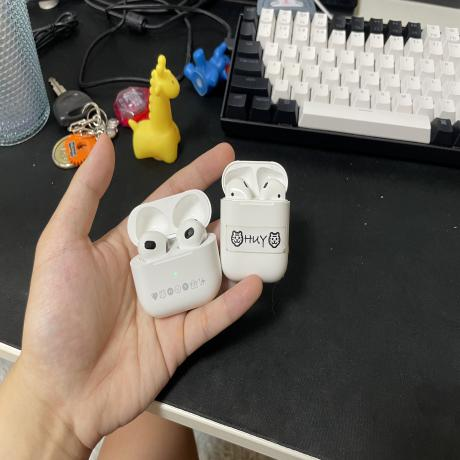airpod2: (216, 156, 297, 286)
airpod3: (124, 182, 224, 324)
